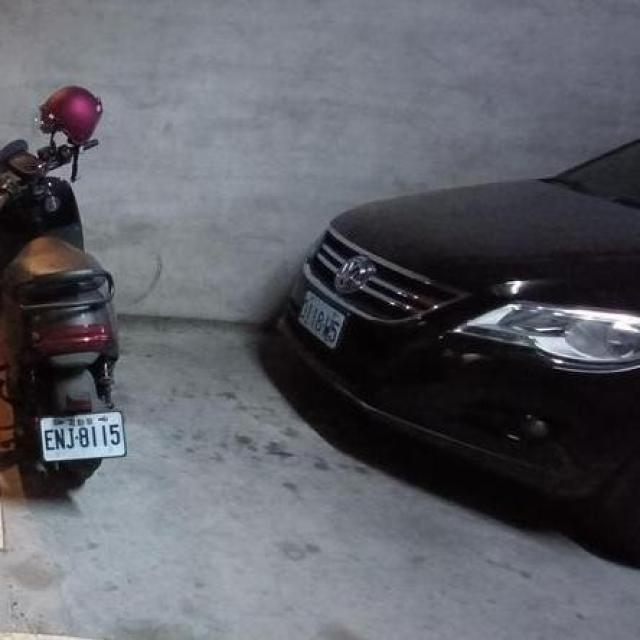W: (35, 404, 128, 464), (287, 282, 354, 352)
